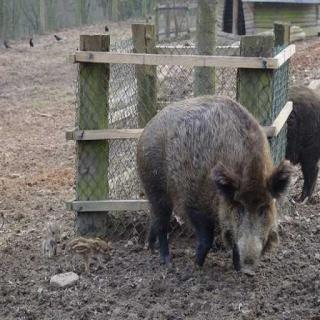Pig: (128, 95, 290, 283)
